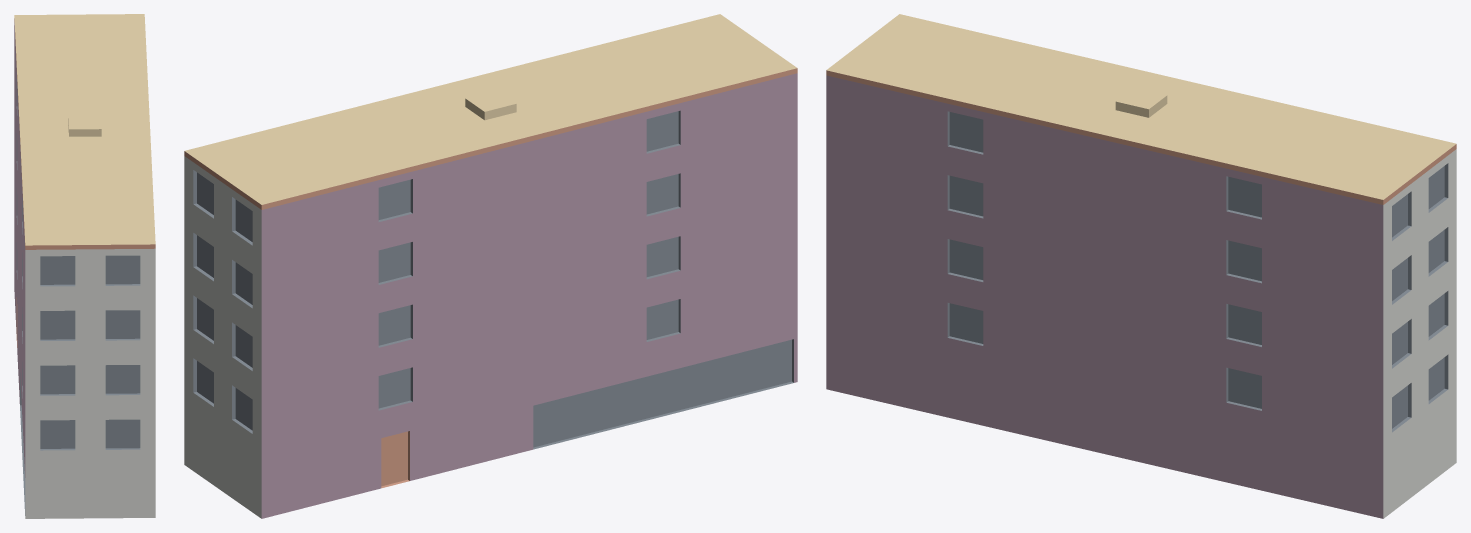
File: doitt-812702__lod_0.glb
The picture shows the model from 3 angles, left to right: view 1: azimuth 30°, elevation 25°; view 2: azimuth 150°, elevation 25°; view 3: azimuth 270°, elevation 25°; orthographic projection. The views are drawn at different scales.
Bounding box in the file's own units: 21.08 × 17.31 × 30.2.
